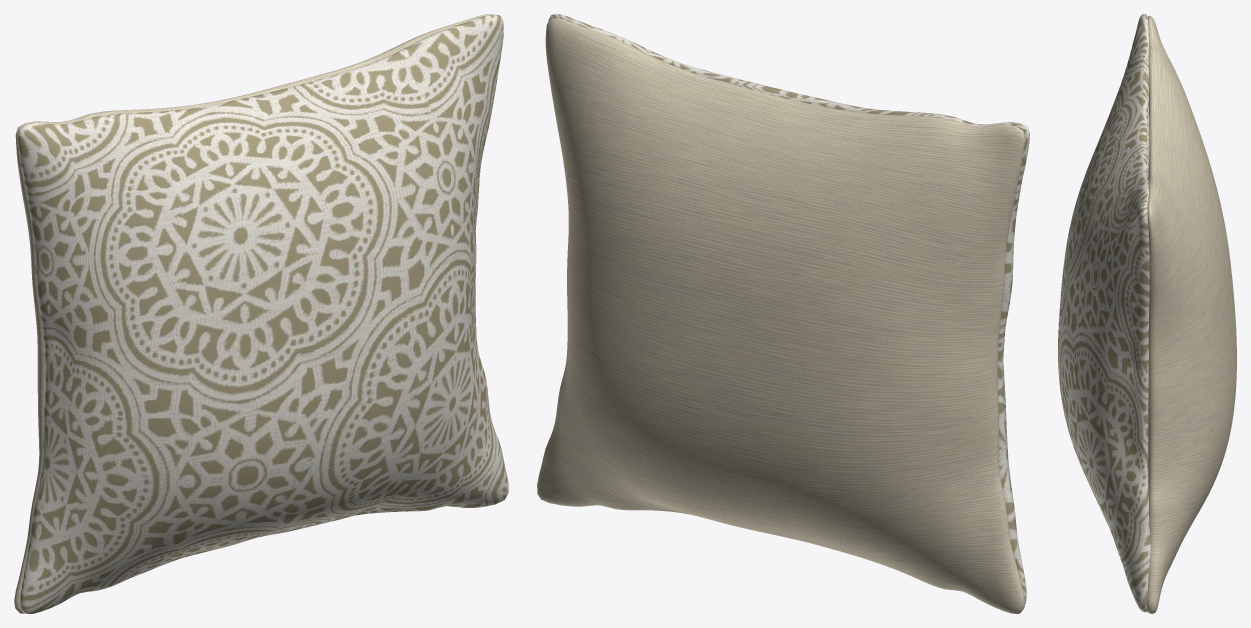
The model's file is B074VKVNQX.glb.
The picture shows the model from 3 angles, left to right: view 1: azimuth 30°, elevation 25°; view 2: azimuth 150°, elevation 25°; view 3: azimuth 270°, elevation 25°; orthographic projection. The views are drawn at different scales.
Visible parts, largest first — view 1: RootNode; view 2: RootNode; view 3: RootNode.
Boxes of the visible parts, bbox=[...] form: RootNode: bbox=[14, 14, 508, 613]; RootNode: bbox=[537, 14, 1029, 613]; RootNode: bbox=[1058, 14, 1236, 613].
Bounding box in the file's own units: 0.4376 × 0.4208 × 0.1671.
Materials: 1 (1 with a texture image).
